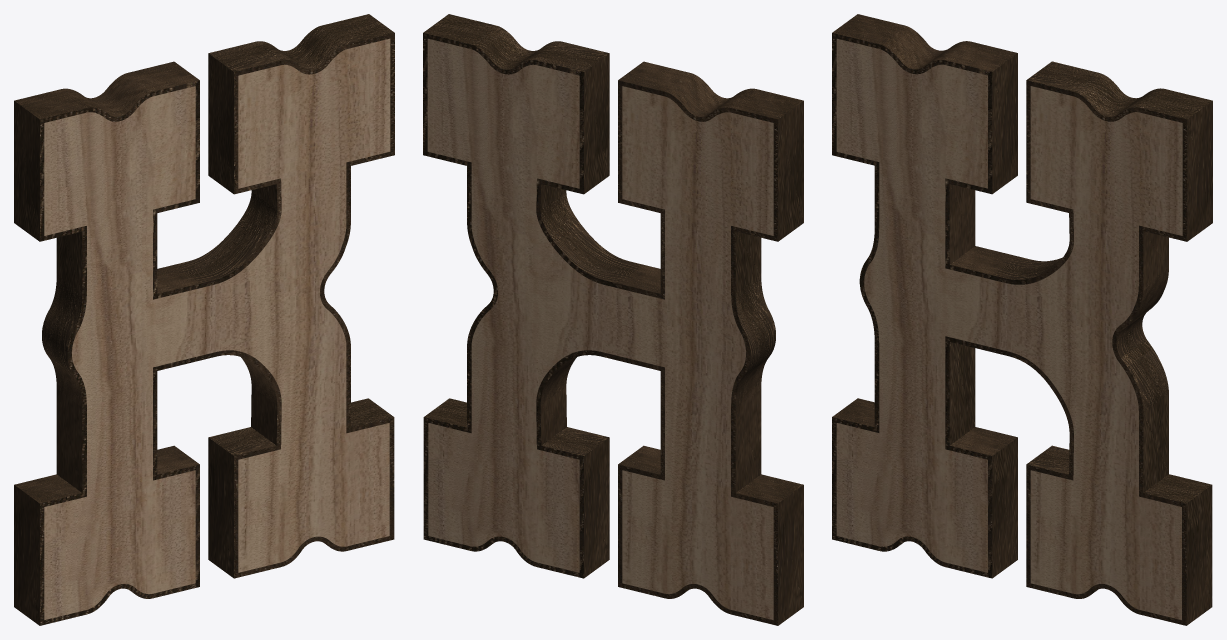
3 renders of one model, left to right at view 1: azimuth 30°, elevation 25°; view 2: azimuth 150°, elevation 25°; view 3: azimuth 330°, elevation 25°, orthographic.
Parts seen in each view (by area): view 1: K, K_outline; view 2: K, K_outline; view 3: K, K_outline.
Part boxes in pixels (x1,y1,x2,y2): K: (44, 38, 390, 619); K_outline: (14, 14, 394, 625); K: (427, 38, 773, 619); K_outline: (423, 14, 803, 625); K: (836, 38, 1182, 619); K_outline: (832, 14, 1212, 625).
Bounding box in the file's own units: 79.79 × 109 × 10.
2 materials, 2 textured.
